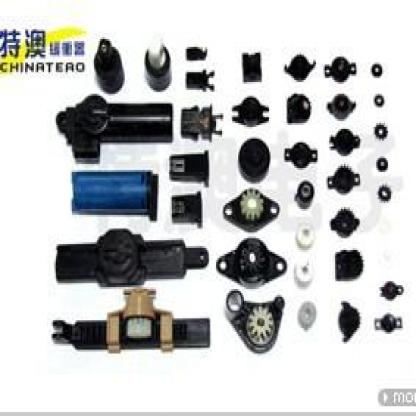FOD: (246, 303, 274, 342), (238, 188, 265, 220)
